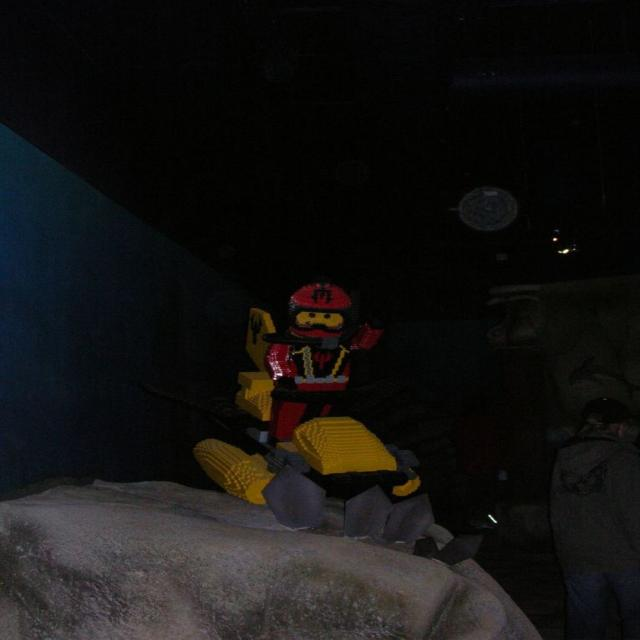Toy: (195, 280, 482, 558)
